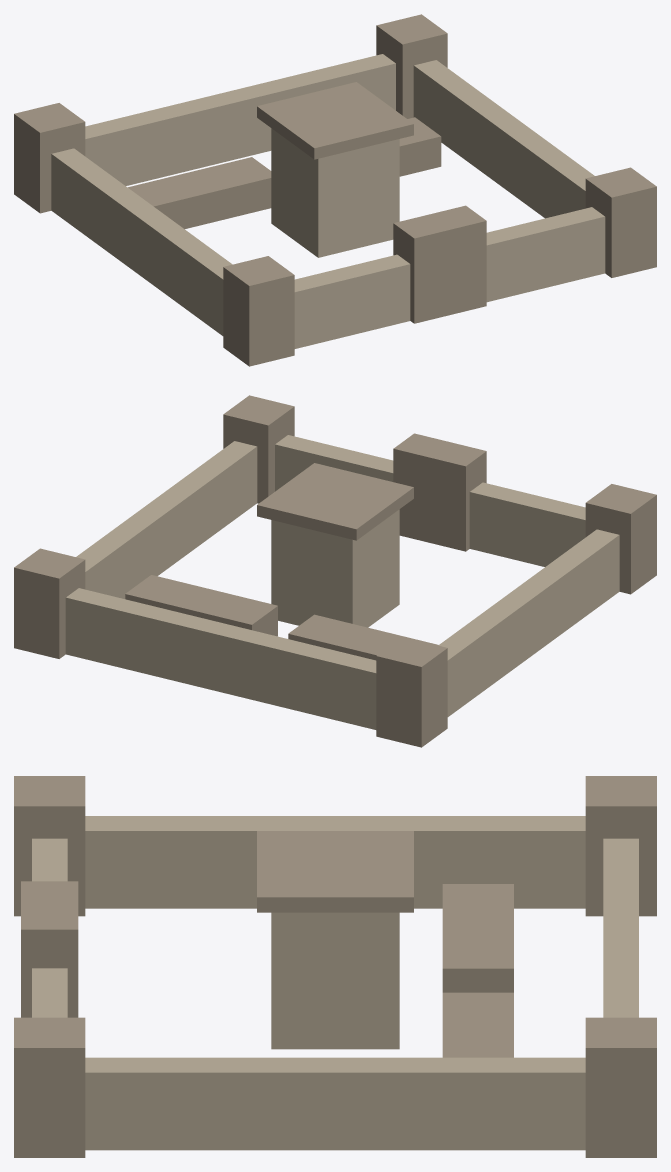
File: karun-placeholder.glb
3 renders of one model, top to bottom at view 1: azimuth 30°, elevation 25°; view 2: azimuth 150°, elevation 25°; view 3: azimuth 270°, elevation 25°, orthographic. The views are drawn at different scales.
Parts seen in each view (by area): view 1: geometry_0, geometry_1, geometry_3, geometry_9, geometry_2, geometry_8, geometry_10, geometry_5, geometry_11, geometry_7, geometry_4, geometry_6 (+1 smaller); view 2: geometry_1, geometry_3, geometry_2, geometry_9, geometry_0, geometry_8, geometry_10, geometry_4, geometry_6, geometry_5, geometry_12, geometry_7 (+1 smaller); view 3: geometry_2, geometry_3, geometry_9, geometry_10, geometry_6, geometry_7, geometry_11, geometry_4, geometry_5, geometry_1, geometry_8, geometry_12 (+1 smaller).
Boxes of the visible parts, box(x1,y1,x2,y2) form: geometry_0: box(294, 207, 605, 348); geometry_1: box(85, 54, 395, 185); geometry_3: box(51, 148, 232, 335); geometry_9: box(271, 128, 399, 257); geometry_2: box(413, 60, 594, 218); geometry_8: box(393, 205, 486, 323); geometry_10: box(257, 82, 413, 159); geometry_5: box(223, 256, 294, 366); geometry_11: box(128, 157, 271, 228); geometry_7: box(585, 167, 656, 277); geometry_4: box(14, 103, 85, 213); geometry_6: box(376, 14, 447, 118); geometry_1: box(65, 588, 376, 729); geometry_3: box(438, 529, 619, 716); geometry_2: box(76, 441, 257, 598); geometry_9: box(271, 509, 399, 627); geometry_0: box(275, 435, 585, 566); geometry_8: box(393, 433, 486, 551); geometry_10: box(257, 463, 413, 540); geometry_4: box(376, 637, 447, 747); geometry_6: box(14, 548, 85, 658); geometry_5: box(585, 484, 656, 594); geometry_12: box(125, 575, 277, 636); geometry_7: box(223, 395, 294, 503); geometry_2: box(85, 1057, 585, 1150); geometry_3: box(85, 816, 585, 908); geometry_9: box(271, 912, 399, 1049); geometry_10: box(257, 831, 413, 912); geometry_6: box(585, 1017, 656, 1157); geometry_7: box(14, 1017, 85, 1157); geometry_11: box(442, 884, 513, 992); geometry_4: box(585, 776, 656, 916); geometry_5: box(14, 776, 85, 916); geometry_1: box(603, 838, 638, 1017); geometry_8: box(21, 881, 78, 1017); geometry_12: box(442, 992, 513, 1057).
Size of the model in its own units: 45 by 12.2 by 45.
